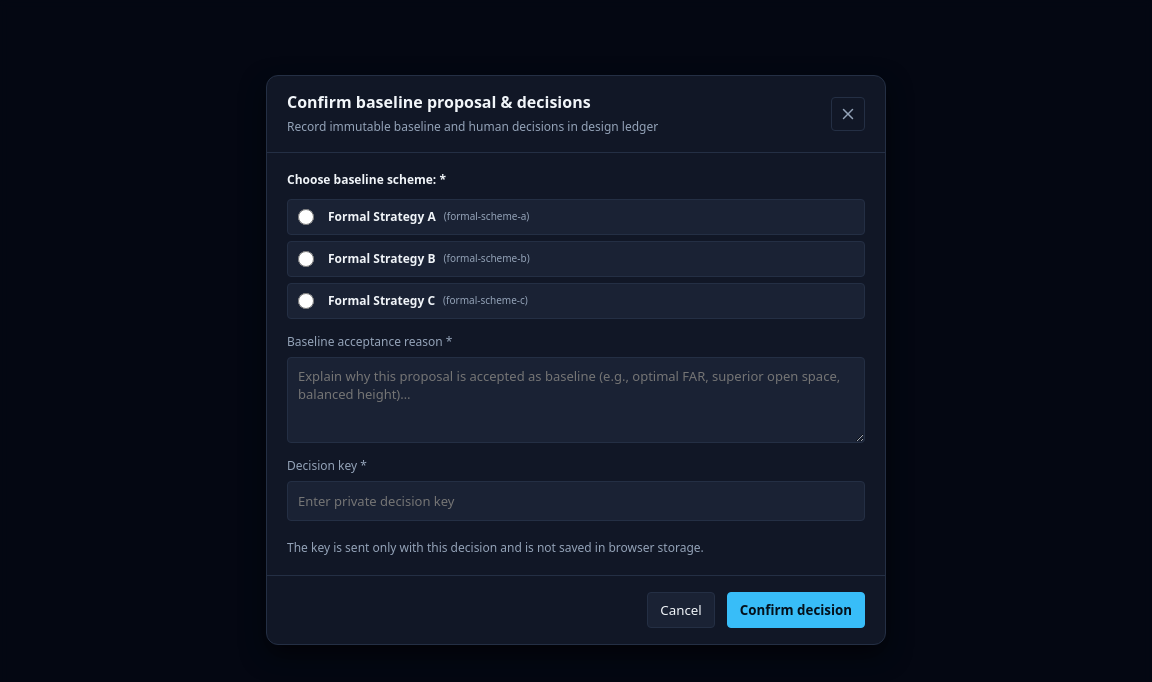
Test: ScenarioComparisonDialog › shows rejection reason errors when baseline is chosen but rejection reasons are missing
This screenshot has width=1152, height=682.
Select scheme A
Click the radio button labelled "Formal Strategy A (formal-scheme-a)" at point(306, 217), box top-left (298, 209), bottom-right (314, 225)
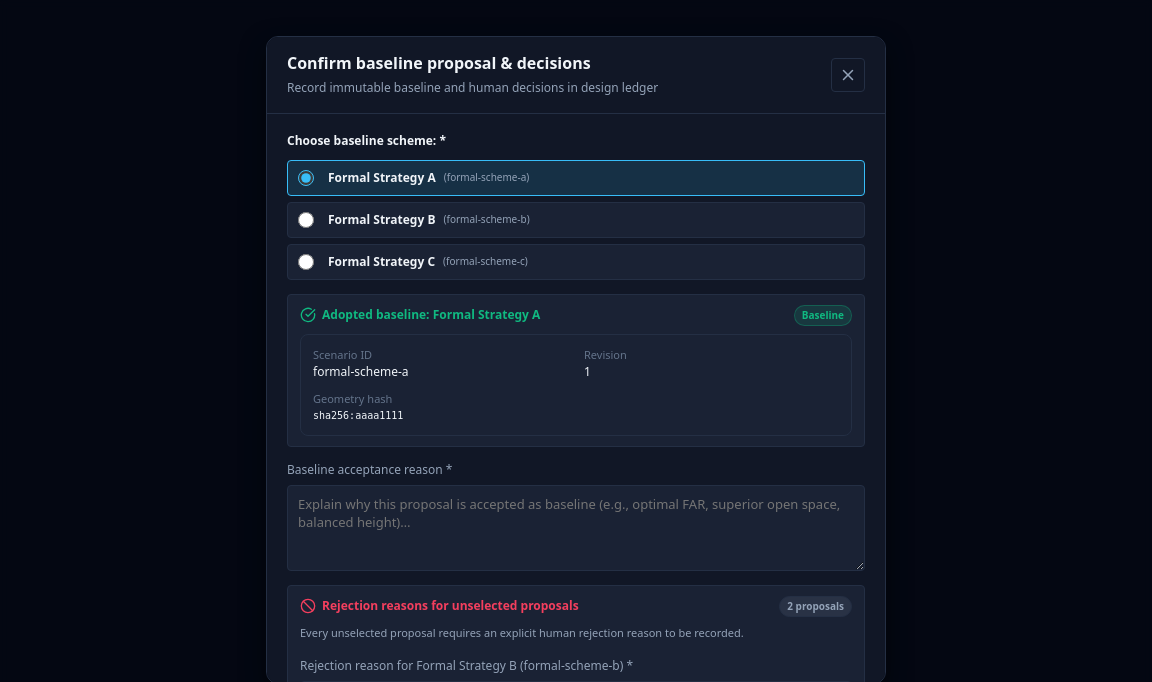
Replace the text in the text box with placeholder "Explain why this proposal is accepted as baseline (e.g., optimal FAR, superior open space, balanced height)…" with "Best density and layout." at point(576, 528), box top-left (287, 485), bottom-right (865, 571)
(page scrolled)
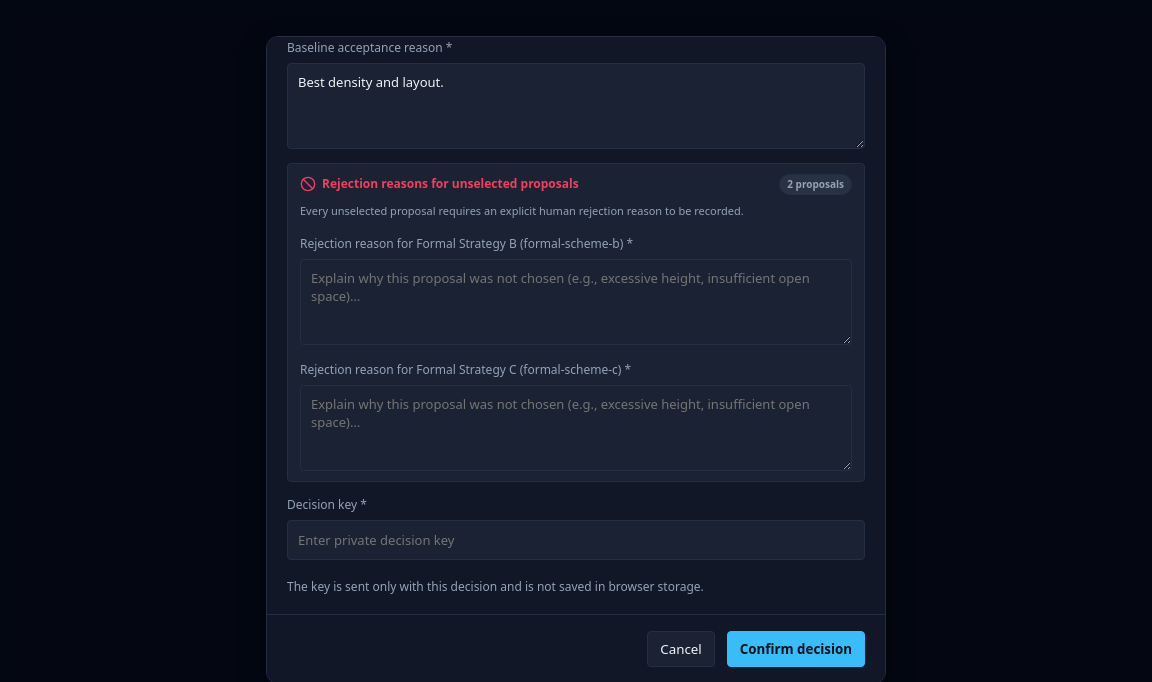
Type "secret-passphrase-123" into the password field with placeholder "Enter private decision key" at point(576, 540), box top-left (287, 520), bottom-right (865, 560)
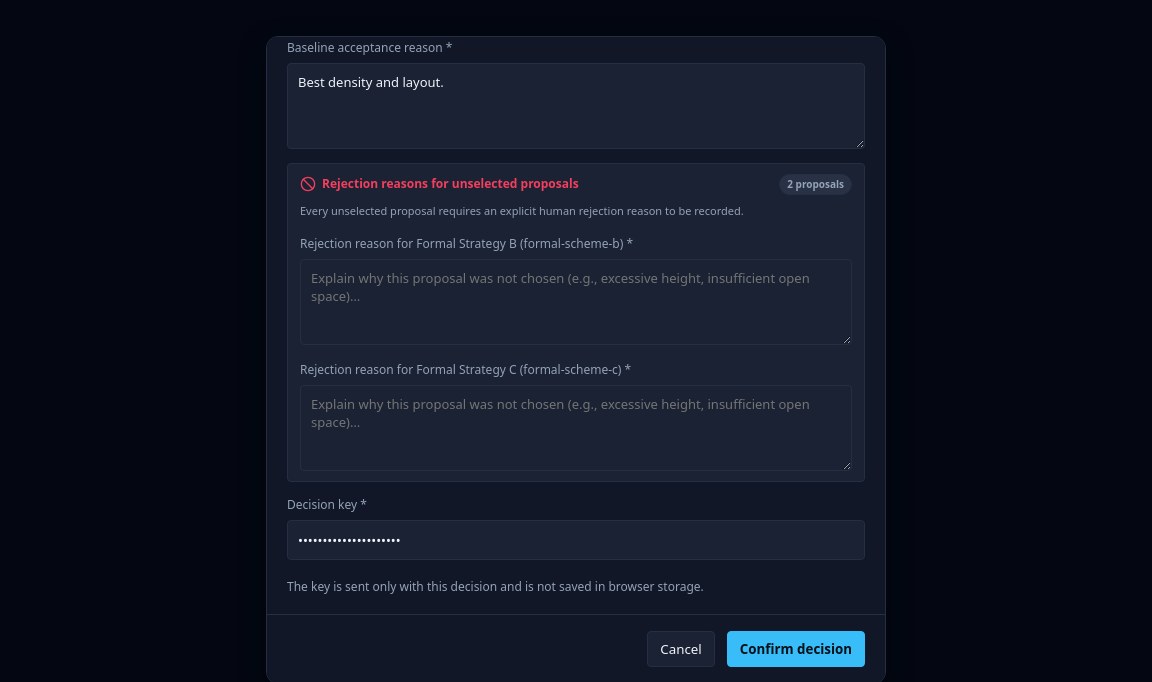
Click the button with test id "confirm-baseline-btn" at point(796, 649), box top-left (727, 631), bottom-right (865, 667)
(page scrolled)
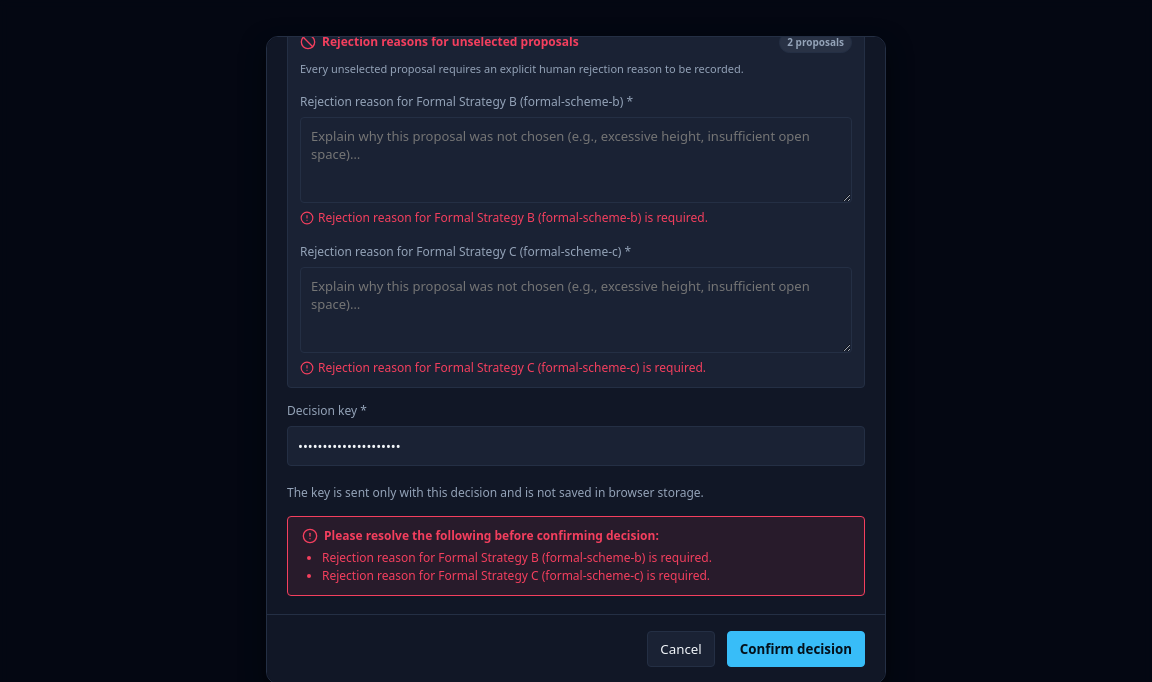
expect the message "Rejection reason for Formal Strategy B (formal-scheme-b) is required." is shown: met, box top-left (300, 209), bottom-right (708, 226)
expect the message "Rejection reason for Formal Strategy C (formal-scheme-c) is required." is shown: met, box top-left (300, 359), bottom-right (706, 376)
expect the message with test id "error-summary" shows "Formal Strategy B": met, box top-left (322, 549), bottom-right (712, 566)
